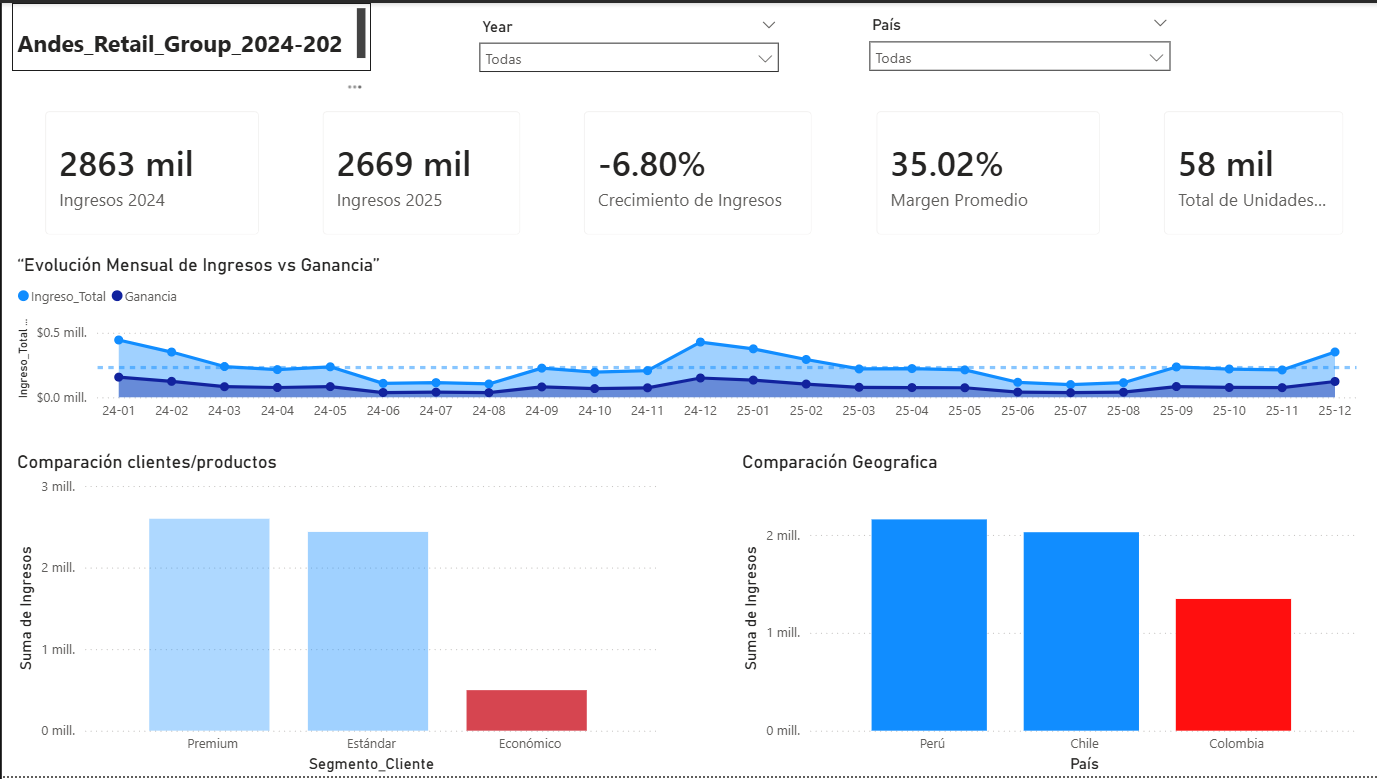

Layout of this report page (visuals, bound fields, positions):
{"tool":"powerbi","page":{"name":"Overview","canvas":[1280,720],"ordinal":0},"visuals":[{"type":"textbox","box":[9.6,0,333.4,64.5],"z":0},{"type":"cardVisual","fields":{"Data":["Andes_Retail_Group_2024_2025.Ingresos_2024"]},"box":[23.3,83.2,233.3,149.6],"z":1000},{"type":"cardVisual","fields":{"Data":["Andes_Retail_Group_2024_2025.Ingresos_2025"]},"box":[281.4,83.2,218.2,149.6],"z":2000},{"type":"cardVisual","fields":{"Data":["Andes_Retail_Group_2024_2025.Crecimiento_de_Ingresos"]},"box":[524.5,83.2,247,149.6],"z":3000},{"type":"lineChart","title":"“Evolución Mensual de Ingresos vs Ganancia”","fields":{"Y":["Andes_Retail_Group_2024_2025.Ingreso_Total","Andes_Retail_Group_2024_2025.Ganancia"],"Category":["Andes_Retail_Group_2024_2025.YearMonth"]},"box":[9.6,233.3,1255.6,163.3],"z":4000},{"type":"cardVisual","fields":{"Data":["Avg(Andes_Retail_Group_2024_2025.Margen_pct)"]},"box":[796.3,83.2,242.9,149.6],"z":5000},{"type":"cardVisual","fields":{"Data":["Andes_Retail_Group_2024_2025.Unidades_Totales"]},"box":[1064,83.2,201.7,149.6],"z":6000},{"type":"clusteredColumnChart","title":"Comparación clientes/productos","fields":{"Category":["Andes_Retail_Group_2024_2025.Segmento_Cliente"],"Y":["Sum(Andes_Retail_Group_2024_2025.Ingresos)"]},"box":[9.6,415.8,605.1,304.6],"z":7000},{"type":"clusteredColumnChart","title":"Comparación Geografica","fields":{"Category":["Andes_Retail_Group_2024_2025.País"],"Y":["Sum(Andes_Retail_Group_2024_2025.Ingresos)"]},"box":[683.4,415.8,583.2,304.6],"z":8000},{"type":"slicer","fields":{"Values":["Andes_Retail_Group_2024_2025.Year"]},"box":[433.7,8.1,298.8,77.9],"z":9000},{"type":"slicer","fields":{"Values":["Andes_Retail_Group_2024_2025.País"]},"box":[796.5,7,300,77.9],"z":10000}]}

Visuals, with their boxes in screenshot pixels (x1, y1, x2, y2), scaled from the page's 1280x720 canvas onto the 1377x779 screenshot:
textbox: rect(10, 0, 369, 70)
cardVisual - Andes_Retail_Group_2024_2025.Ingresos_2024: rect(25, 90, 276, 252)
cardVisual - Andes_Retail_Group_2024_2025.Ingresos_2025: rect(303, 90, 537, 252)
cardVisual - Andes_Retail_Group_2024_2025.Crecimiento_de_Ingresos: rect(564, 90, 830, 252)
"“Evolución Mensual de Ingresos vs Ganancia”" lineChart: rect(10, 252, 1361, 429)
cardVisual - Avg(Andes_Retail_Group_2024_2025.Margen_pct): rect(857, 90, 1118, 252)
cardVisual - Andes_Retail_Group_2024_2025.Unidades_Totales: rect(1145, 90, 1362, 252)
"Comparación clientes/productos" clusteredColumnChart: rect(10, 450, 661, 778)
"Comparación Geografica" clusteredColumnChart: rect(735, 450, 1363, 778)
slicer - Andes_Retail_Group_2024_2025.Year: rect(467, 9, 788, 93)
slicer - Andes_Retail_Group_2024_2025.País: rect(857, 8, 1180, 92)
